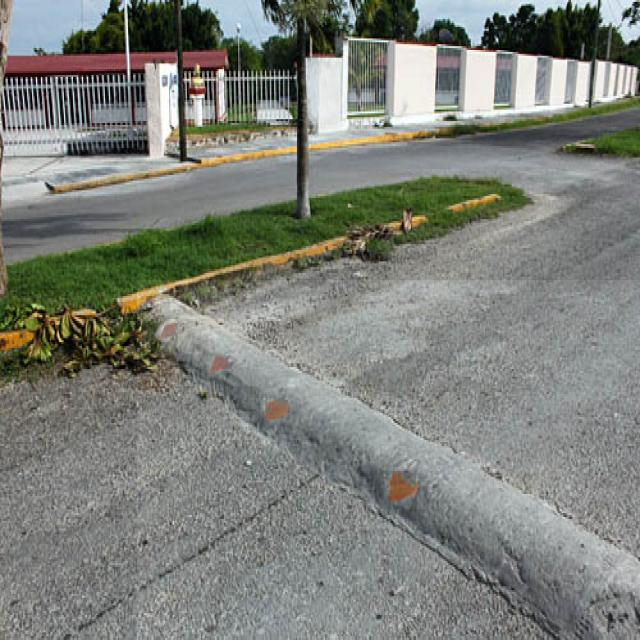speed-bump: (137, 280, 640, 640)
